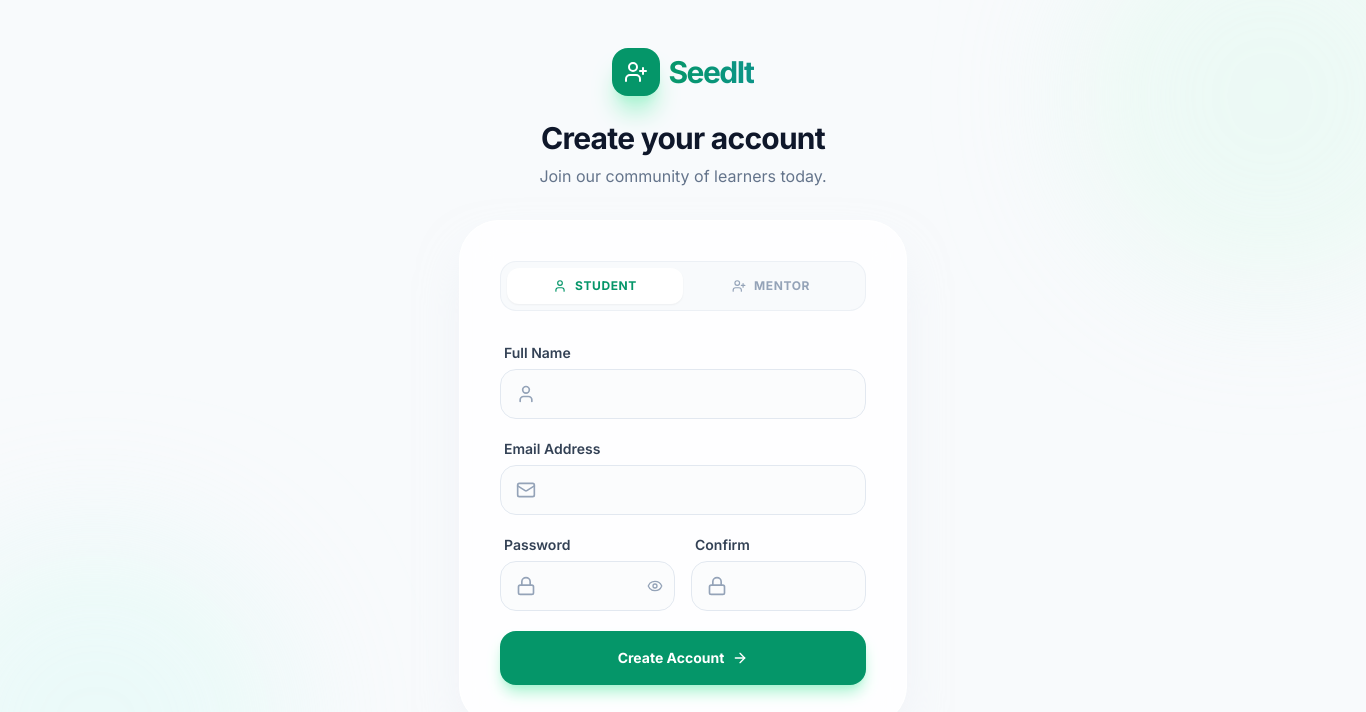
Scenario: Validation Testing - Register Component › displays server-side validation error for duplicate email
In the field labelled "Full Name": (683, 394) [500, 369, 866, 419], type "Duplicate User"
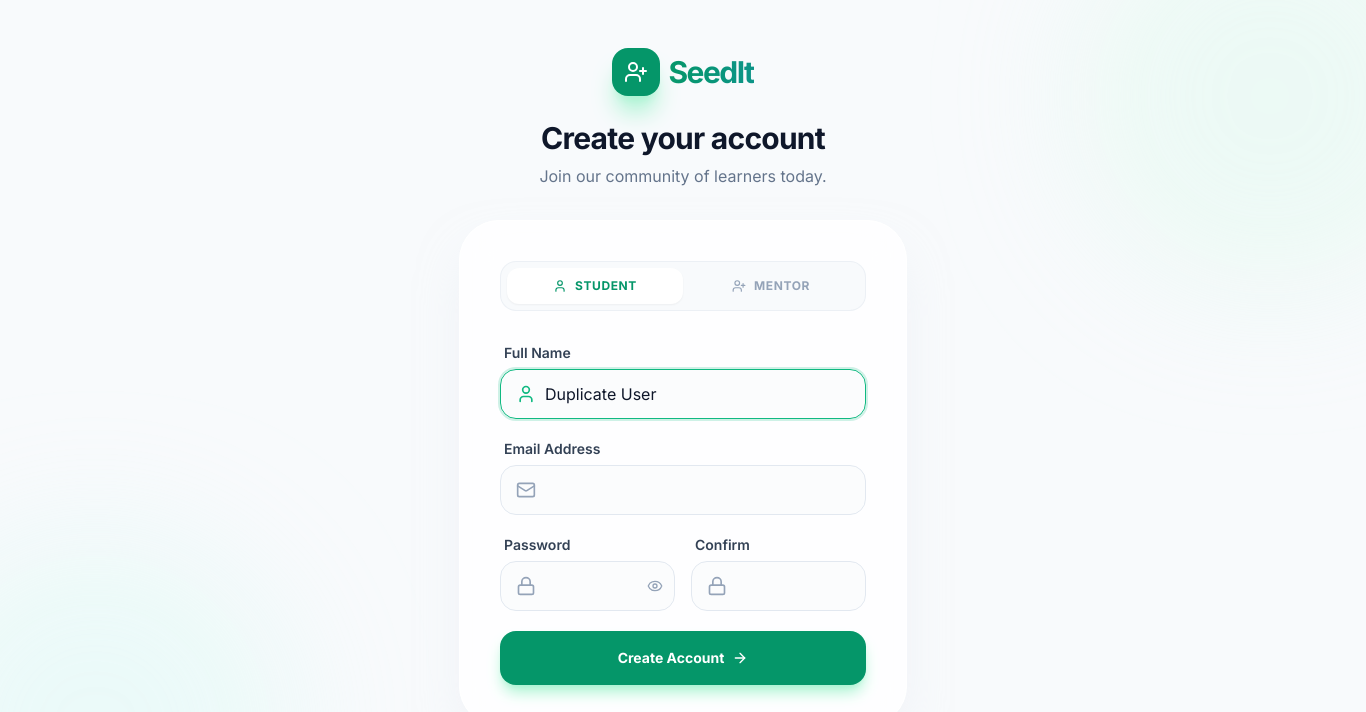
In the field labelled "Email Address": (683, 490) [500, 465, 866, 515], type "dup@test.com"
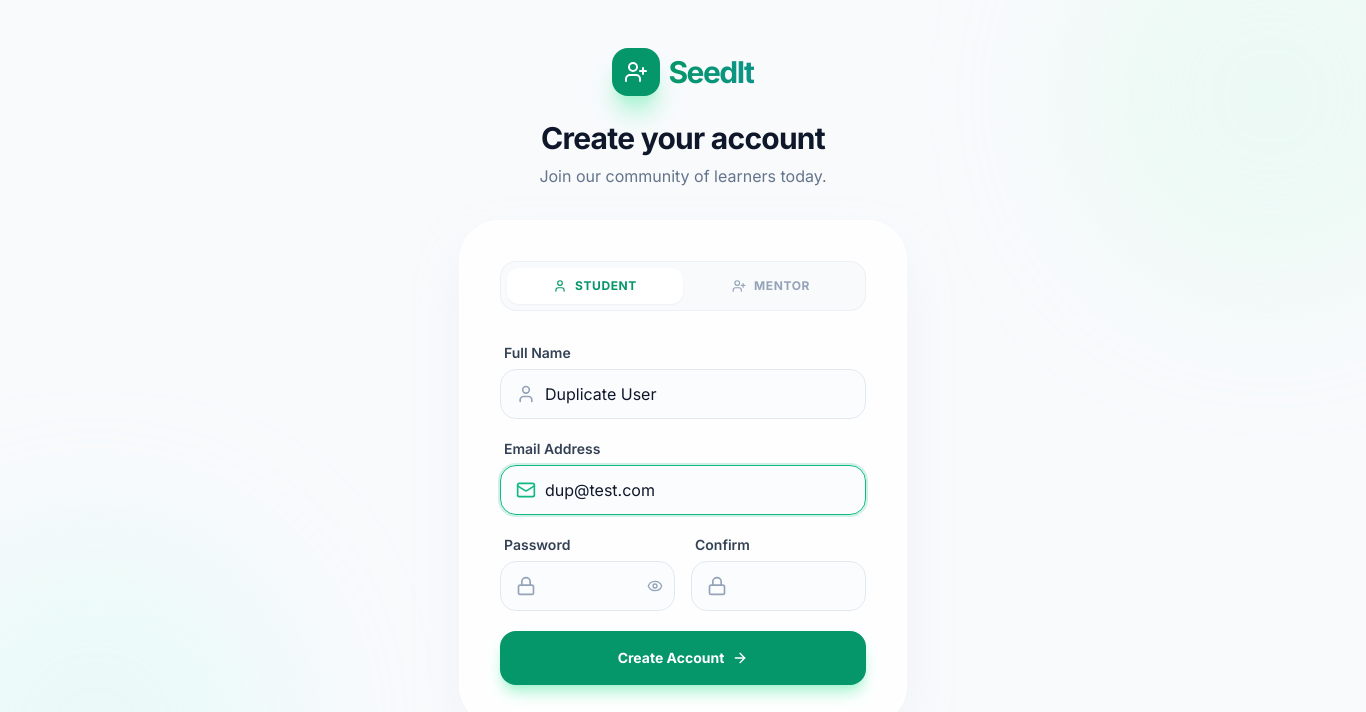
In the password field labelled "Password": (588, 586) [500, 561, 675, 611], type "pass123"
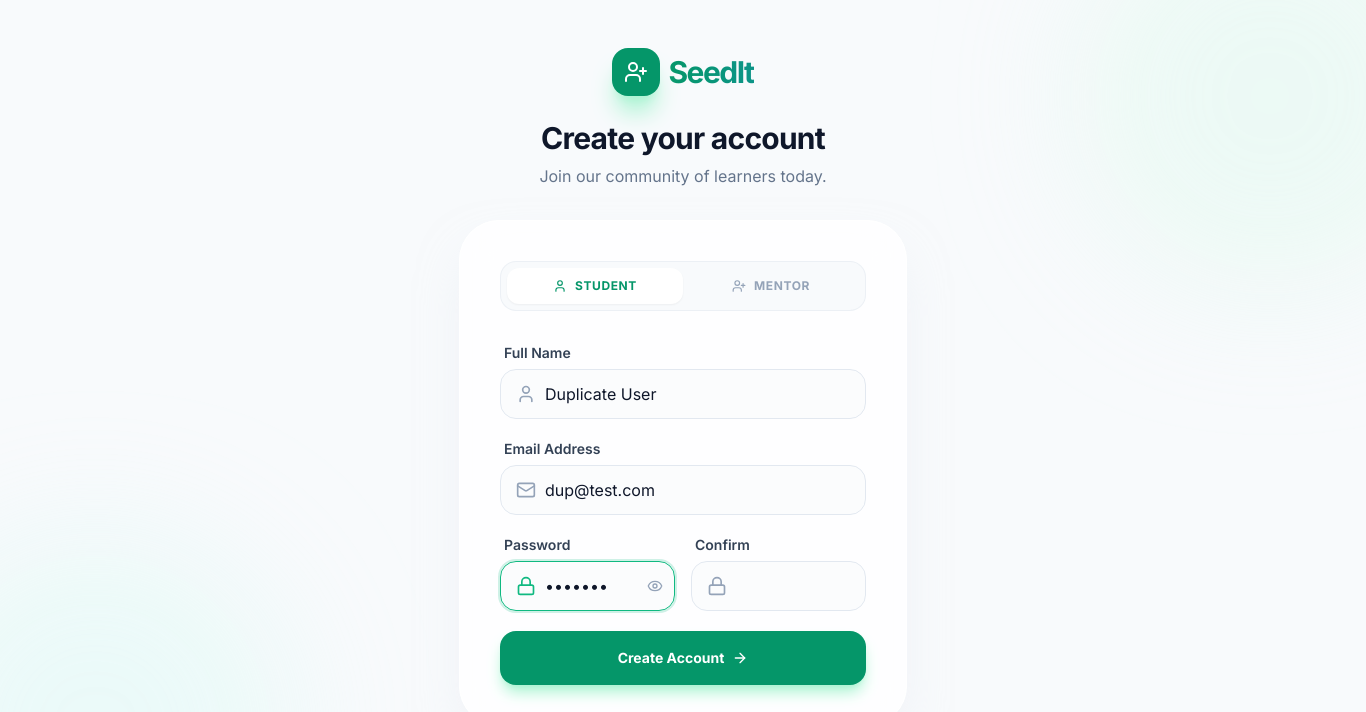
In the password field labelled "Confirm": (778, 586) [691, 561, 866, 611], type "pass123"
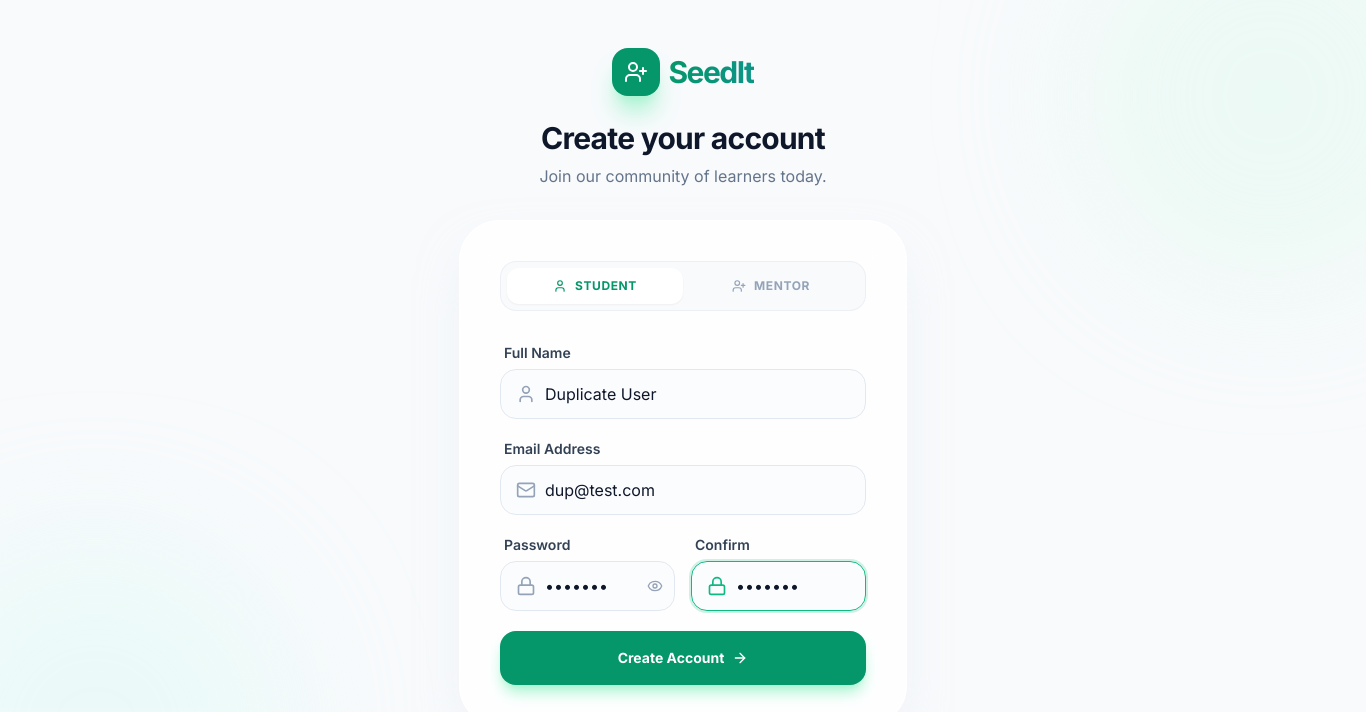
Click the button "Create Account": (683, 658) [500, 631, 866, 685]
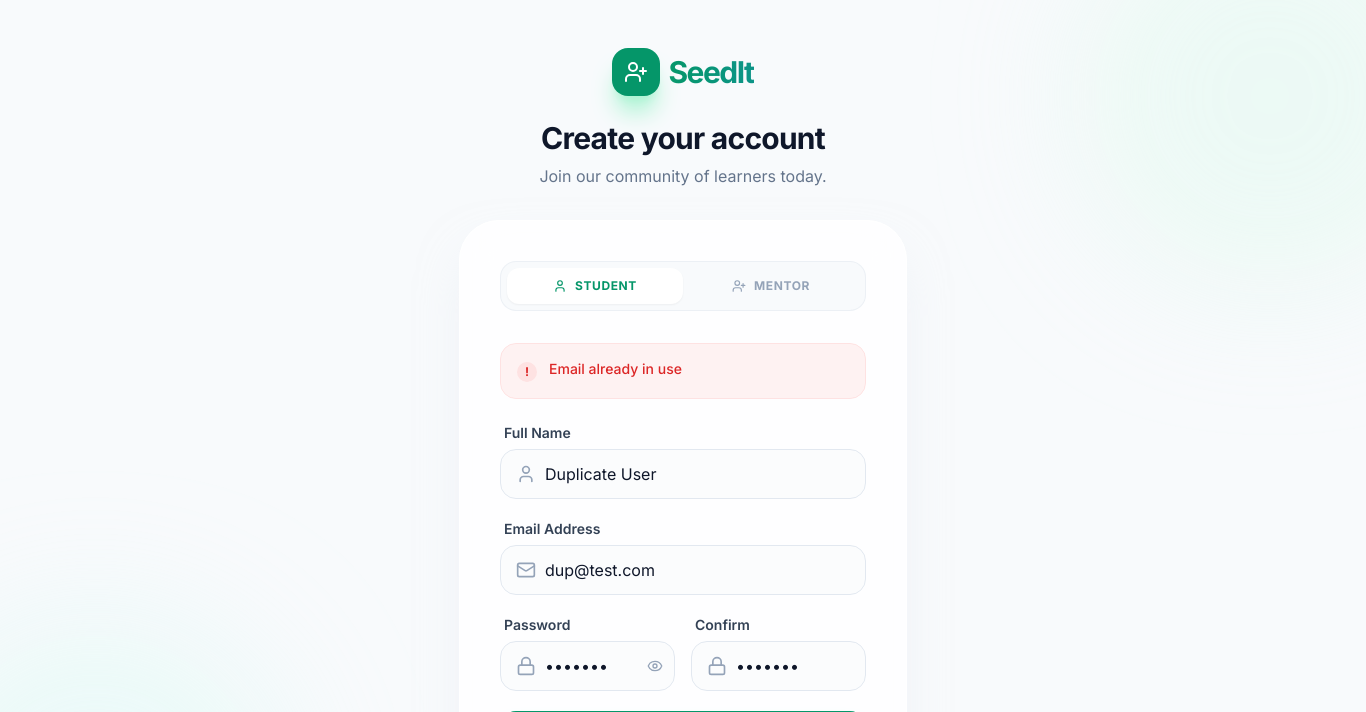
Now the text "Email already in use" is shown, box [549, 360, 682, 378]
